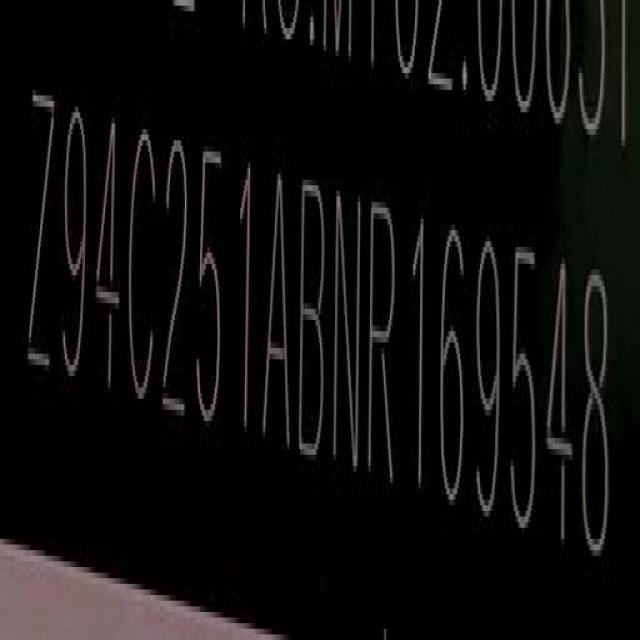1: (411, 210, 428, 494), (237, 152, 251, 442)
2: (164, 128, 191, 426)
4: (546, 251, 575, 552), (96, 107, 123, 400)
5: (511, 236, 538, 536), (200, 138, 224, 438)
6: (439, 223, 467, 503)
8: (584, 277, 614, 561)
9: (475, 238, 503, 522), (63, 98, 89, 390)
A: (264, 168, 293, 456)
B: (300, 171, 328, 465)
C: (129, 122, 160, 414)
N: (334, 184, 363, 474)
R: (368, 194, 398, 483)
Z: (26, 86, 56, 384)
